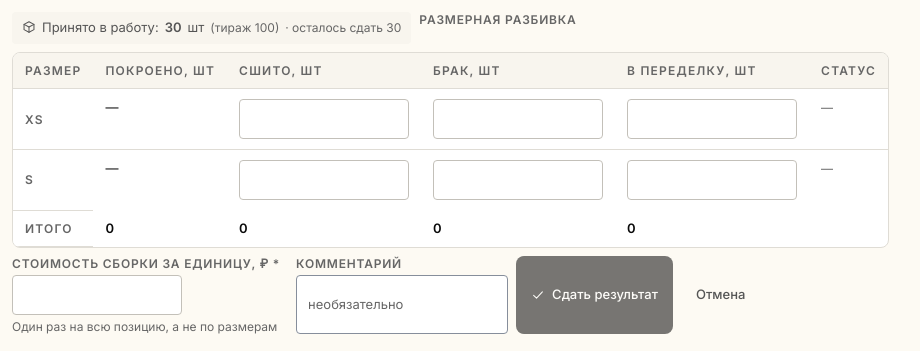
it: результат пошива по размерам (правка 16.09, п. 6) › стоимость сборки обязательна, пока её у позиции нет
Expected: the table is shown, [13,53,888,246]
Type "5" into the number field named "XS, Сшито" at [324, 119], box [239,99,409,139]
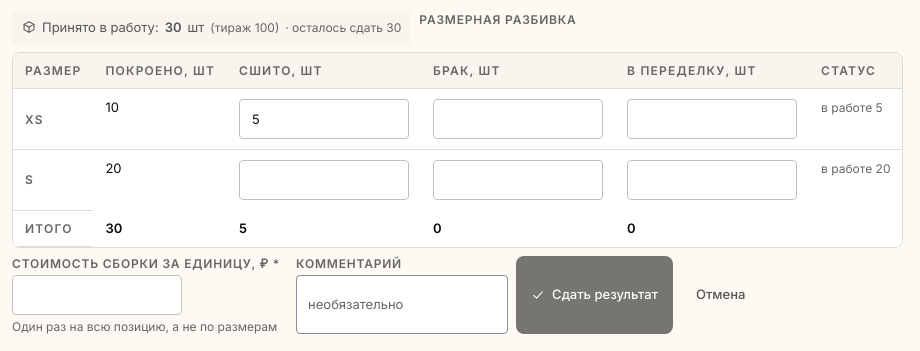
Expected: the button "Сдать результат" is disabled, [516,256,673,334]
Type "415.5" into the number field labelled "Стоимость сборки за единицу" at [97, 294], box [12,274,182,314]
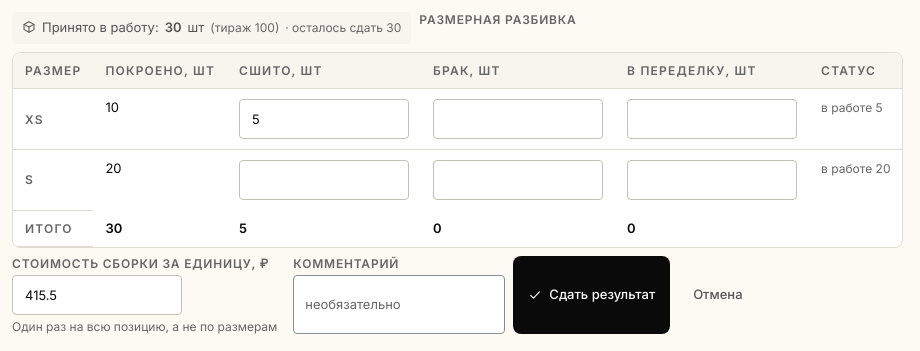
Now the button "Сдать результат" is enabled, box [513,256,670,334]
